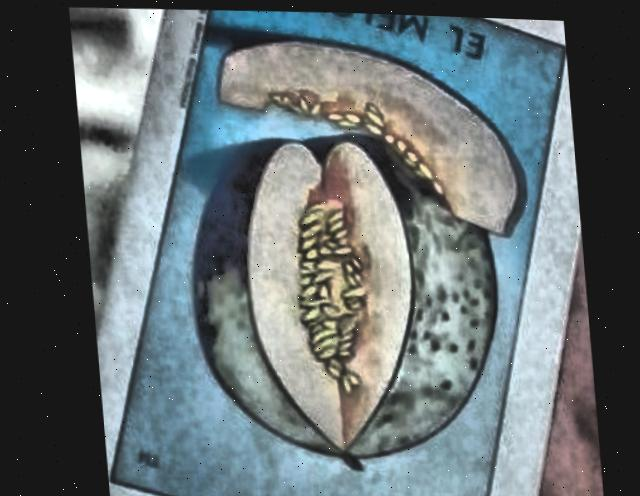El Melon: (102, 8, 566, 496)
